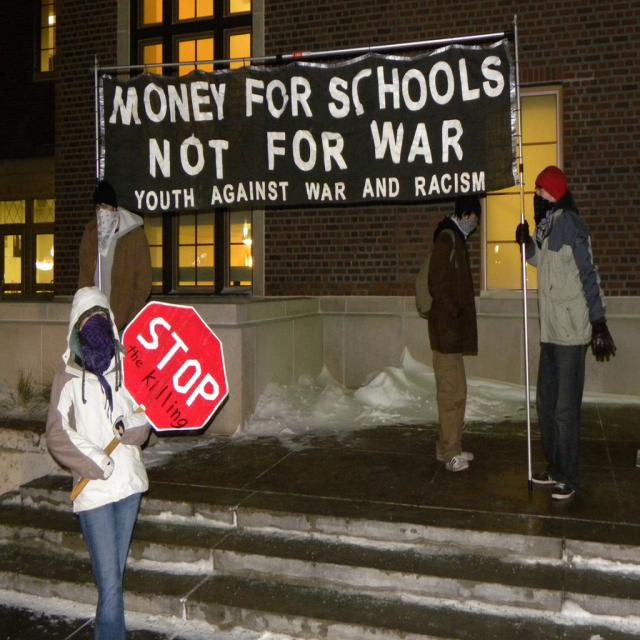Stop-sign: (122, 299, 228, 431)
